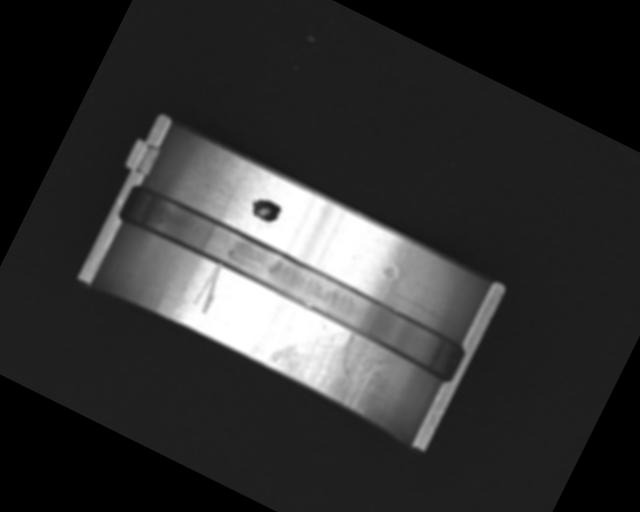blot: (246, 194, 284, 227)
bruise: (378, 260, 402, 286)
gap: (115, 180, 469, 384)
nick: (190, 259, 231, 316)
scratch: (264, 301, 403, 421)
